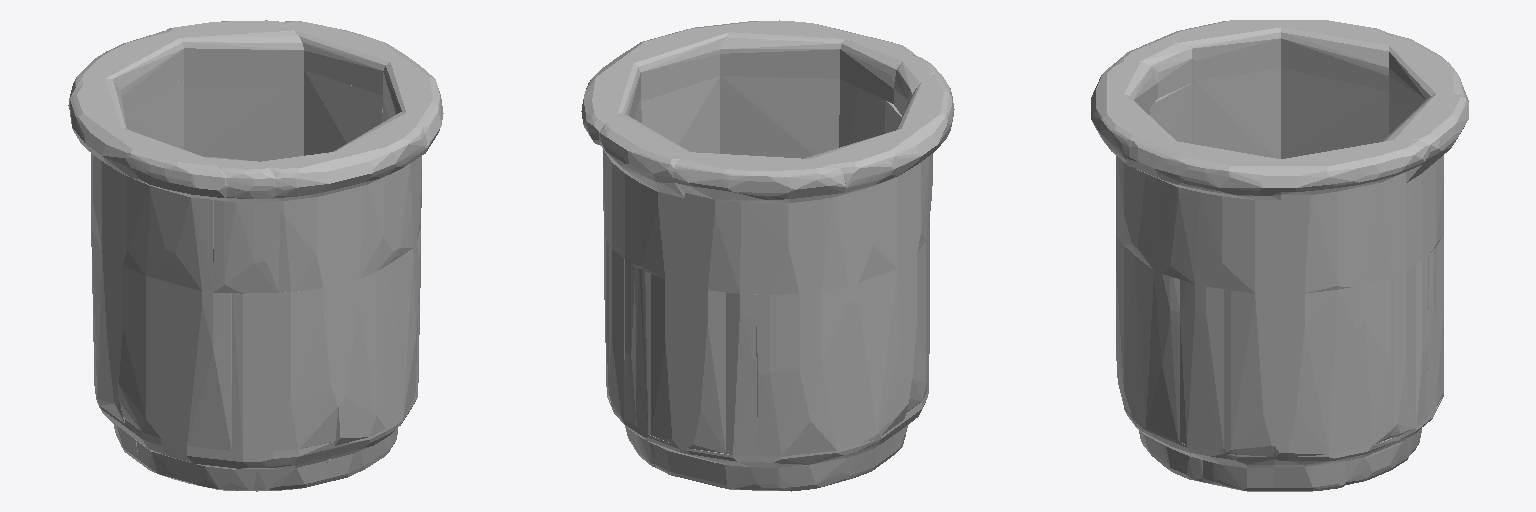
URDF robot description (root):
<robot name="root">
  <link name="body">
    <visual>
      <origin xyz="0 0 0" rpy="0 0 0"/>
      <geometry>
        <mesh filename="coacd_convex_piece_0.obj" scale="1.0000E+00 1.0000E+00 1.0000E+00"/>
      </geometry>
      <material name="">
        <color rgba="7.50E-01 7.50E-01 7.50E-01 1"/>
      </material>
    </visual>
    <collision>
      <origin xyz="0 0 0" rpy="0 0 0"/>
      <geometry>
        <mesh filename="coacd_convex_piece_0.obj" scale="1.0000E+00 1.0000E+00 1.0000E+00"/>
      </geometry>
    </collision>
    <visual>
      <origin xyz="0 0 0" rpy="0 0 0"/>
      <geometry>
        <mesh filename="coacd_convex_piece_1.obj" scale="1.0000E+00 1.0000E+00 1.0000E+00"/>
      </geometry>
      <material name="">
        <color rgba="7.50E-01 7.50E-01 7.50E-01 1"/>
      </material>
    </visual>
    <collision>
      <origin xyz="0 0 0" rpy="0 0 0"/>
      <geometry>
        <mesh filename="coacd_convex_piece_1.obj" scale="1.0000E+00 1.0000E+00 1.0000E+00"/>
      </geometry>
    </collision>
    <visual>
      <origin xyz="0 0 0" rpy="0 0 0"/>
      <geometry>
        <mesh filename="coacd_convex_piece_2.obj" scale="1.0000E+00 1.0000E+00 1.0000E+00"/>
      </geometry>
      <material name="">
        <color rgba="7.50E-01 7.50E-01 7.50E-01 1"/>
      </material>
    </visual>
    <collision>
      <origin xyz="0 0 0" rpy="0 0 0"/>
      <geometry>
        <mesh filename="coacd_convex_piece_2.obj" scale="1.0000E+00 1.0000E+00 1.0000E+00"/>
      </geometry>
    </collision>
    <visual>
      <origin xyz="0 0 0" rpy="0 0 0"/>
      <geometry>
        <mesh filename="coacd_convex_piece_3.obj" scale="1.0000E+00 1.0000E+00 1.0000E+00"/>
      </geometry>
      <material name="">
        <color rgba="7.50E-01 7.50E-01 7.50E-01 1"/>
      </material>
    </visual>
    <collision>
      <origin xyz="0 0 0" rpy="0 0 0"/>
      <geometry>
        <mesh filename="coacd_convex_piece_3.obj" scale="1.0000E+00 1.0000E+00 1.0000E+00"/>
      </geometry>
    </collision>
    <visual>
      <origin xyz="0 0 0" rpy="0 0 0"/>
      <geometry>
        <mesh filename="coacd_convex_piece_4.obj" scale="1.0000E+00 1.0000E+00 1.0000E+00"/>
      </geometry>
      <material name="">
        <color rgba="7.50E-01 7.50E-01 7.50E-01 1"/>
      </material>
    </visual>
    <collision>
      <origin xyz="0 0 0" rpy="0 0 0"/>
      <geometry>
        <mesh filename="coacd_convex_piece_4.obj" scale="1.0000E+00 1.0000E+00 1.0000E+00"/>
      </geometry>
    </collision>
    <visual>
      <origin xyz="0 0 0" rpy="0 0 0"/>
      <geometry>
        <mesh filename="coacd_convex_piece_5.obj" scale="1.0000E+00 1.0000E+00 1.0000E+00"/>
      </geometry>
      <material name="">
        <color rgba="7.50E-01 7.50E-01 7.50E-01 1"/>
      </material>
    </visual>
    <collision>
      <origin xyz="0 0 0" rpy="0 0 0"/>
      <geometry>
        <mesh filename="coacd_convex_piece_5.obj" scale="1.0000E+00 1.0000E+00 1.0000E+00"/>
      </geometry>
    </collision>
    <visual>
      <origin xyz="0 0 0" rpy="0 0 0"/>
      <geometry>
        <mesh filename="coacd_convex_piece_6.obj" scale="1.0000E+00 1.0000E+00 1.0000E+00"/>
      </geometry>
      <material name="">
        <color rgba="7.50E-01 7.50E-01 7.50E-01 1"/>
      </material>
    </visual>
    <collision>
      <origin xyz="0 0 0" rpy="0 0 0"/>
      <geometry>
        <mesh filename="coacd_convex_piece_6.obj" scale="1.0000E+00 1.0000E+00 1.0000E+00"/>
      </geometry>
    </collision>
    <visual>
      <origin xyz="0 0 0" rpy="0 0 0"/>
      <geometry>
        <mesh filename="coacd_convex_piece_7.obj" scale="1.0000E+00 1.0000E+00 1.0000E+00"/>
      </geometry>
      <material name="">
        <color rgba="7.50E-01 7.50E-01 7.50E-01 1"/>
      </material>
    </visual>
    <collision>
      <origin xyz="0 0 0" rpy="0 0 0"/>
      <geometry>
        <mesh filename="coacd_convex_piece_7.obj" scale="1.0000E+00 1.0000E+00 1.0000E+00"/>
      </geometry>
    </collision>
    <visual>
      <origin xyz="0 0 0" rpy="0 0 0"/>
      <geometry>
        <mesh filename="coacd_convex_piece_8.obj" scale="1.0000E+00 1.0000E+00 1.0000E+00"/>
      </geometry>
      <material name="">
        <color rgba="7.50E-01 7.50E-01 7.50E-01 1"/>
      </material>
    </visual>
    <collision>
      <origin xyz="0 0 0" rpy="0 0 0"/>
      <geometry>
        <mesh filename="coacd_convex_piece_8.obj" scale="1.0000E+00 1.0000E+00 1.0000E+00"/>
      </geometry>
    </collision>
    <visual>
      <origin xyz="0 0 0" rpy="0 0 0"/>
      <geometry>
        <mesh filename="coacd_convex_piece_9.obj" scale="1.0000E+00 1.0000E+00 1.0000E+00"/>
      </geometry>
      <material name="">
        <color rgba="7.50E-01 7.50E-01 7.50E-01 1"/>
      </material>
    </visual>
    <collision>
      <origin xyz="0 0 0" rpy="0 0 0"/>
      <geometry>
        <mesh filename="coacd_convex_piece_9.obj" scale="1.0000E+00 1.0000E+00 1.0000E+00"/>
      </geometry>
    </collision>
    <visual>
      <origin xyz="0 0 0" rpy="0 0 0"/>
      <geometry>
        <mesh filename="coacd_convex_piece_10.obj" scale="1.0000E+00 1.0000E+00 1.0000E+00"/>
      </geometry>
      <material name="">
        <color rgba="7.50E-01 7.50E-01 7.50E-01 1"/>
      </material>
    </visual>
    <collision>
      <origin xyz="0 0 0" rpy="0 0 0"/>
      <geometry>
        <mesh filename="coacd_convex_piece_10.obj" scale="1.0000E+00 1.0000E+00 1.0000E+00"/>
      </geometry>
    </collision>
    <visual>
      <origin xyz="0 0 0" rpy="0 0 0"/>
      <geometry>
        <mesh filename="coacd_convex_piece_11.obj" scale="1.0000E+00 1.0000E+00 1.0000E+00"/>
      </geometry>
      <material name="">
        <color rgba="7.50E-01 7.50E-01 7.50E-01 1"/>
      </material>
    </visual>
    <collision>
      <origin xyz="0 0 0" rpy="0 0 0"/>
      <geometry>
        <mesh filename="coacd_convex_piece_11.obj" scale="1.0000E+00 1.0000E+00 1.0000E+00"/>
      </geometry>
    </collision>
    <visual>
      <origin xyz="0 0 0" rpy="0 0 0"/>
      <geometry>
        <mesh filename="coacd_convex_piece_12.obj" scale="1.0000E+00 1.0000E+00 1.0000E+00"/>
      </geometry>
      <material name="">
        <color rgba="7.50E-01 7.50E-01 7.50E-01 1"/>
      </material>
    </visual>
    <collision>
      <origin xyz="0 0 0" rpy="0 0 0"/>
      <geometry>
        <mesh filename="coacd_convex_piece_12.obj" scale="1.0000E+00 1.0000E+00 1.0000E+00"/>
      </geometry>
    </collision>
    <visual>
      <origin xyz="0 0 0" rpy="0 0 0"/>
      <geometry>
        <mesh filename="coacd_convex_piece_13.obj" scale="1.0000E+00 1.0000E+00 1.0000E+00"/>
      </geometry>
      <material name="">
        <color rgba="7.50E-01 7.50E-01 7.50E-01 1"/>
      </material>
    </visual>
    <collision>
      <origin xyz="0 0 0" rpy="0 0 0"/>
      <geometry>
        <mesh filename="coacd_convex_piece_13.obj" scale="1.0000E+00 1.0000E+00 1.0000E+00"/>
      </geometry>
    </collision>
    <visual>
      <origin xyz="0 0 0" rpy="0 0 0"/>
      <geometry>
        <mesh filename="coacd_convex_piece_14.obj" scale="1.0000E+00 1.0000E+00 1.0000E+00"/>
      </geometry>
      <material name="">
        <color rgba="7.50E-01 7.50E-01 7.50E-01 1"/>
      </material>
    </visual>
    <collision>
      <origin xyz="0 0 0" rpy="0 0 0"/>
      <geometry>
        <mesh filename="coacd_convex_piece_14.obj" scale="1.0000E+00 1.0000E+00 1.0000E+00"/>
      </geometry>
    </collision>
    <visual>
      <origin xyz="0 0 0" rpy="0 0 0"/>
      <geometry>
        <mesh filename="coacd_convex_piece_15.obj" scale="1.0000E+00 1.0000E+00 1.0000E+00"/>
      </geometry>
      <material name="">
        <color rgba="7.50E-01 7.50E-01 7.50E-01 1"/>
      </material>
    </visual>
    <collision>
      <origin xyz="0 0 0" rpy="0 0 0"/>
      <geometry>
        <mesh filename="coacd_convex_piece_15.obj" scale="1.0000E+00 1.0000E+00 1.0000E+00"/>
      </geometry>
    </collision>
    <visual>
      <origin xyz="0 0 0" rpy="0 0 0"/>
      <geometry>
        <mesh filename="coacd_convex_piece_16.obj" scale="1.0000E+00 1.0000E+00 1.0000E+00"/>
      </geometry>
      <material name="">
        <color rgba="7.50E-01 7.50E-01 7.50E-01 1"/>
      </material>
    </visual>
    <collision>
      <origin xyz="0 0 0" rpy="0 0 0"/>
      <geometry>
        <mesh filename="coacd_convex_piece_16.obj" scale="1.0000E+00 1.0000E+00 1.0000E+00"/>
      </geometry>
    </collision>
    <visual>
      <origin xyz="0 0 0" rpy="0 0 0"/>
      <geometry>
        <mesh filename="coacd_convex_piece_17.obj" scale="1.0000E+00 1.0000E+00 1.0000E+00"/>
      </geometry>
      <material name="">
        <color rgba="7.50E-01 7.50E-01 7.50E-01 1"/>
      </material>
    </visual>
    <collision>
      <origin xyz="0 0 0" rpy="0 0 0"/>
      <geometry>
        <mesh filename="coacd_convex_piece_17.obj" scale="1.0000E+00 1.0000E+00 1.0000E+00"/>
      </geometry>
    </collision>
    <visual>
      <origin xyz="0 0 0" rpy="0 0 0"/>
      <geometry>
        <mesh filename="coacd_convex_piece_18.obj" scale="1.0000E+00 1.0000E+00 1.0000E+00"/>
      </geometry>
      <material name="">
        <color rgba="7.50E-01 7.50E-01 7.50E-01 1"/>
      </material>
    </visual>
    <collision>
      <origin xyz="0 0 0" rpy="0 0 0"/>
      <geometry>
        <mesh filename="coacd_convex_piece_18.obj" scale="1.0000E+00 1.0000E+00 1.0000E+00"/>
      </geometry>
    </collision>
    <visual>
      <origin xyz="0 0 0" rpy="0 0 0"/>
      <geometry>
        <mesh filename="coacd_convex_piece_19.obj" scale="1.0000E+00 1.0000E+00 1.0000E+00"/>
      </geometry>
      <material name="">
        <color rgba="7.50E-01 7.50E-01 7.50E-01 1"/>
      </material>
    </visual>
    <collision>
      <origin xyz="0 0 0" rpy="0 0 0"/>
      <geometry>
        <mesh filename="coacd_convex_piece_19.obj" scale="1.0000E+00 1.0000E+00 1.0000E+00"/>
      </geometry>
    </collision>
    <visual>
      <origin xyz="0 0 0" rpy="0 0 0"/>
      <geometry>
        <mesh filename="coacd_convex_piece_20.obj" scale="1.0000E+00 1.0000E+00 1.0000E+00"/>
      </geometry>
      <material name="">
        <color rgba="7.50E-01 7.50E-01 7.50E-01 1"/>
      </material>
    </visual>
    <collision>
      <origin xyz="0 0 0" rpy="0 0 0"/>
      <geometry>
        <mesh filename="coacd_convex_piece_20.obj" scale="1.0000E+00 1.0000E+00 1.0000E+00"/>
      </geometry>
    </collision>
    <visual>
      <origin xyz="0 0 0" rpy="0 0 0"/>
      <geometry>
        <mesh filename="coacd_convex_piece_21.obj" scale="1.0000E+00 1.0000E+00 1.0000E+00"/>
      </geometry>
      <material name="">
        <color rgba="7.50E-01 7.50E-01 7.50E-01 1"/>
      </material>
    </visual>
    <collision>
      <origin xyz="0 0 0" rpy="0 0 0"/>
      <geometry>
        <mesh filename="coacd_convex_piece_21.obj" scale="1.0000E+00 1.0000E+00 1.0000E+00"/>
      </geometry>
    </collision>
    <visual>
      <origin xyz="0 0 0" rpy="0 0 0"/>
      <geometry>
        <mesh filename="coacd_convex_piece_22.obj" scale="1.0000E+00 1.0000E+00 1.0000E+00"/>
      </geometry>
      <material name="">
        <color rgba="7.50E-01 7.50E-01 7.50E-01 1"/>
      </material>
    </visual>
    <collision>
      <origin xyz="0 0 0" rpy="0 0 0"/>
      <geometry>
        <mesh filename="coacd_convex_piece_22.obj" scale="1.0000E+00 1.0000E+00 1.0000E+00"/>
      </geometry>
    </collision>
    <visual>
      <origin xyz="0 0 0" rpy="0 0 0"/>
      <geometry>
        <mesh filename="coacd_convex_piece_23.obj" scale="1.0000E+00 1.0000E+00 1.0000E+00"/>
      </geometry>
      <material name="">
        <color rgba="7.50E-01 7.50E-01 7.50E-01 1"/>
      </material>
    </visual>
    <collision>
      <origin xyz="0 0 0" rpy="0 0 0"/>
      <geometry>
        <mesh filename="coacd_convex_piece_23.obj" scale="1.0000E+00 1.0000E+00 1.0000E+00"/>
      </geometry>
    </collision>
    <visual>
      <origin xyz="0 0 0" rpy="0 0 0"/>
      <geometry>
        <mesh filename="coacd_convex_piece_24.obj" scale="1.0000E+00 1.0000E+00 1.0000E+00"/>
      </geometry>
      <material name="">
        <color rgba="7.50E-01 7.50E-01 7.50E-01 1"/>
      </material>
    </visual>
    <collision>
      <origin xyz="0 0 0" rpy="0 0 0"/>
      <geometry>
        <mesh filename="coacd_convex_piece_24.obj" scale="1.0000E+00 1.0000E+00 1.0000E+00"/>
      </geometry>
    </collision>
    <visual>
      <origin xyz="0 0 0" rpy="0 0 0"/>
      <geometry>
        <mesh filename="coacd_convex_piece_25.obj" scale="1.0000E+00 1.0000E+00 1.0000E+00"/>
      </geometry>
      <material name="">
        <color rgba="7.50E-01 7.50E-01 7.50E-01 1"/>
      </material>
    </visual>
    <collision>
      <origin xyz="0 0 0" rpy="0 0 0"/>
      <geometry>
        <mesh filename="coacd_convex_piece_25.obj" scale="1.0000E+00 1.0000E+00 1.0000E+00"/>
      </geometry>
    </collision>
    <visual>
      <origin xyz="0 0 0" rpy="0 0 0"/>
      <geometry>
        <mesh filename="coacd_convex_piece_26.obj" scale="1.0000E+00 1.0000E+00 1.0000E+00"/>
      </geometry>
      <material name="">
        <color rgba="7.50E-01 7.50E-01 7.50E-01 1"/>
      </material>
    </visual>
    <collision>
      <origin xyz="0 0 0" rpy="0 0 0"/>
      <geometry>
        <mesh filename="coacd_convex_piece_26.obj" scale="1.0000E+00 1.0000E+00 1.0000E+00"/>
      </geometry>
    </collision>
    <visual>
      <origin xyz="0 0 0" rpy="0 0 0"/>
      <geometry>
        <mesh filename="coacd_convex_piece_27.obj" scale="1.0000E+00 1.0000E+00 1.0000E+00"/>
      </geometry>
      <material name="">
        <color rgba="7.50E-01 7.50E-01 7.50E-01 1"/>
      </material>
    </visual>
    <collision>
      <origin xyz="0 0 0" rpy="0 0 0"/>
      <geometry>
        <mesh filename="coacd_convex_piece_27.obj" scale="1.0000E+00 1.0000E+00 1.0000E+00"/>
      </geometry>
    </collision>
    <visual>
      <origin xyz="0 0 0" rpy="0 0 0"/>
      <geometry>
        <mesh filename="coacd_convex_piece_28.obj" scale="1.0000E+00 1.0000E+00 1.0000E+00"/>
      </geometry>
      <material name="">
        <color rgba="7.50E-01 7.50E-01 7.50E-01 1"/>
      </material>
    </visual>
    <collision>
      <origin xyz="0 0 0" rpy="0 0 0"/>
      <geometry>
        <mesh filename="coacd_convex_piece_28.obj" scale="1.0000E+00 1.0000E+00 1.0000E+00"/>
      </geometry>
    </collision>
    <visual>
      <origin xyz="0 0 0" rpy="0 0 0"/>
      <geometry>
        <mesh filename="coacd_convex_piece_29.obj" scale="1.0000E+00 1.0000E+00 1.0000E+00"/>
      </geometry>
      <material name="">
        <color rgba="7.50E-01 7.50E-01 7.50E-01 1"/>
      </material>
    </visual>
    <collision>
      <origin xyz="0 0 0" rpy="0 0 0"/>
      <geometry>
        <mesh filename="coacd_convex_piece_29.obj" scale="1.0000E+00 1.0000E+00 1.0000E+00"/>
      </geometry>
    </collision>
    <visual>
      <origin xyz="0 0 0" rpy="0 0 0"/>
      <geometry>
        <mesh filename="coacd_convex_piece_30.obj" scale="1.0000E+00 1.0000E+00 1.0000E+00"/>
      </geometry>
      <material name="">
        <color rgba="7.50E-01 7.50E-01 7.50E-01 1"/>
      </material>
    </visual>
    <collision>
      <origin xyz="0 0 0" rpy="0 0 0"/>
      <geometry>
        <mesh filename="coacd_convex_piece_30.obj" scale="1.0000E+00 1.0000E+00 1.0000E+00"/>
      </geometry>
    </collision>
    <visual>
      <origin xyz="0 0 0" rpy="0 0 0"/>
      <geometry>
        <mesh filename="coacd_convex_piece_31.obj" scale="1.0000E+00 1.0000E+00 1.0000E+00"/>
      </geometry>
      <material name="">
        <color rgba="7.50E-01 7.50E-01 7.50E-01 1"/>
      </material>
    </visual>
    <collision>
      <origin xyz="0 0 0" rpy="0 0 0"/>
      <geometry>
        <mesh filename="coacd_convex_piece_31.obj" scale="1.0000E+00 1.0000E+00 1.0000E+00"/>
      </geometry>
    </collision>
    <visual>
      <origin xyz="0 0 0" rpy="0 0 0"/>
      <geometry>
        <mesh filename="coacd_convex_piece_32.obj" scale="1.0000E+00 1.0000E+00 1.0000E+00"/>
      </geometry>
      <material name="">
        <color rgba="7.50E-01 7.50E-01 7.50E-01 1"/>
      </material>
    </visual>
    <collision>
      <origin xyz="0 0 0" rpy="0 0 0"/>
      <geometry>
        <mesh filename="coacd_convex_piece_32.obj" scale="1.0000E+00 1.0000E+00 1.0000E+00"/>
      </geometry>
    </collision>
    <visual>
      <origin xyz="0 0 0" rpy="0 0 0"/>
      <geometry>
        <mesh filename="coacd_convex_piece_33.obj" scale="1.0000E+00 1.0000E+00 1.0000E+00"/>
      </geometry>
      <material name="">
        <color rgba="7.50E-01 7.50E-01 7.50E-01 1"/>
      </material>
    </visual>
    <collision>
      <origin xyz="0 0 0" rpy="0 0 0"/>
      <geometry>
        <mesh filename="coacd_convex_piece_33.obj" scale="1.0000E+00 1.0000E+00 1.0000E+00"/>
      </geometry>
    </collision>
    <visual>
      <origin xyz="0 0 0" rpy="0 0 0"/>
      <geometry>
        <mesh filename="coacd_convex_piece_34.obj" scale="1.0000E+00 1.0000E+00 1.0000E+00"/>
      </geometry>
      <material name="">
        <color rgba="7.50E-01 7.50E-01 7.50E-01 1"/>
      </material>
    </visual>
    <collision>
      <origin xyz="0 0 0" rpy="0 0 0"/>
      <geometry>
        <mesh filename="coacd_convex_piece_34.obj" scale="1.0000E+00 1.0000E+00 1.0000E+00"/>
      </geometry>
    </collision>
    <visual>
      <origin xyz="0 0 0" rpy="0 0 0"/>
      <geometry>
        <mesh filename="coacd_convex_piece_35.obj" scale="1.0000E+00 1.0000E+00 1.0000E+00"/>
      </geometry>
      <material name="">
        <color rgba="7.50E-01 7.50E-01 7.50E-01 1"/>
      </material>
    </visual>
    <collision>
      <origin xyz="0 0 0" rpy="0 0 0"/>
      <geometry>
        <mesh filename="coacd_convex_piece_35.obj" scale="1.0000E+00 1.0000E+00 1.0000E+00"/>
      </geometry>
    </collision>
    <visual>
      <origin xyz="0 0 0" rpy="0 0 0"/>
      <geometry>
        <mesh filename="coacd_convex_piece_36.obj" scale="1.0000E+00 1.0000E+00 1.0000E+00"/>
      </geometry>
      <material name="">
        <color rgba="7.50E-01 7.50E-01 7.50E-01 1"/>
      </material>
    </visual>
    <collision>
      <origin xyz="0 0 0" rpy="0 0 0"/>
      <geometry>
        <mesh filename="coacd_convex_piece_36.obj" scale="1.0000E+00 1.0000E+00 1.0000E+00"/>
      </geometry>
    </collision>
    <visual>
      <origin xyz="0 0 0" rpy="0 0 0"/>
      <geometry>
        <mesh filename="coacd_convex_piece_37.obj" scale="1.0000E+00 1.0000E+00 1.0000E+00"/>
      </geometry>
      <material name="">
        <color rgba="7.50E-01 7.50E-01 7.50E-01 1"/>
      </material>
    </visual>
    <collision>
      <origin xyz="0 0 0" rpy="0 0 0"/>
      <geometry>
        <mesh filename="coacd_convex_piece_37.obj" scale="1.0000E+00 1.0000E+00 1.0000E+00"/>
      </geometry>
    </collision>
    <visual>
      <origin xyz="0 0 0" rpy="0 0 0"/>
      <geometry>
        <mesh filename="coacd_convex_piece_38.obj" scale="1.0000E+00 1.0000E+00 1.0000E+00"/>
      </geometry>
      <material name="">
        <color rgba="7.50E-01 7.50E-01 7.50E-01 1"/>
      </material>
    </visual>
    <collision>
      <origin xyz="0 0 0" rpy="0 0 0"/>
      <geometry>
        <mesh filename="coacd_convex_piece_38.obj" scale="1.0000E+00 1.0000E+00 1.0000E+00"/>
      </geometry>
    </collision>
    <visual>
      <origin xyz="0 0 0" rpy="0 0 0"/>
      <geometry>
        <mesh filename="coacd_convex_piece_39.obj" scale="1.0000E+00 1.0000E+00 1.0000E+00"/>
      </geometry>
      <material name="">
        <color rgba="7.50E-01 7.50E-01 7.50E-01 1"/>
      </material>
    </visual>
    <collision>
      <origin xyz="0 0 0" rpy="0 0 0"/>
      <geometry>
        <mesh filename="coacd_convex_piece_39.obj" scale="1.0000E+00 1.0000E+00 1.0000E+00"/>
      </geometry>
    </collision>
    <visual>
      <origin xyz="0 0 0" rpy="0 0 0"/>
      <geometry>
        <mesh filename="coacd_convex_piece_40.obj" scale="1.0000E+00 1.0000E+00 1.0000E+00"/>
      </geometry>
      <material name="">
        <color rgba="7.50E-01 7.50E-01 7.50E-01 1"/>
      </material>
    </visual>
    <collision>
      <origin xyz="0 0 0" rpy="0 0 0"/>
      <geometry>
        <mesh filename="coacd_convex_piece_40.obj" scale="1.0000E+00 1.0000E+00 1.0000E+00"/>
      </geometry>
    </collision>
    <visual>
      <origin xyz="0 0 0" rpy="0 0 0"/>
      <geometry>
        <mesh filename="coacd_convex_piece_41.obj" scale="1.0000E+00 1.0000E+00 1.0000E+00"/>
      </geometry>
      <material name="">
        <color rgba="7.50E-01 7.50E-01 7.50E-01 1"/>
      </material>
    </visual>
    <collision>
      <origin xyz="0 0 0" rpy="0 0 0"/>
      <geometry>
        <mesh filename="coacd_convex_piece_41.obj" scale="1.0000E+00 1.0000E+00 1.0000E+00"/>
      </geometry>
    </collision>
    <visual>
      <origin xyz="0 0 0" rpy="0 0 0"/>
      <geometry>
        <mesh filename="coacd_convex_piece_42.obj" scale="1.0000E+00 1.0000E+00 1.0000E+00"/>
      </geometry>
      <material name="">
        <color rgba="7.50E-01 7.50E-01 7.50E-01 1"/>
      </material>
    </visual>
    <collision>
      <origin xyz="0 0 0" rpy="0 0 0"/>
      <geometry>
        <mesh filename="coacd_convex_piece_42.obj" scale="1.0000E+00 1.0000E+00 1.0000E+00"/>
      </geometry>
    </collision>
    <visual>
      <origin xyz="0 0 0" rpy="0 0 0"/>
      <geometry>
        <mesh filename="coacd_convex_piece_43.obj" scale="1.0000E+00 1.0000E+00 1.0000E+00"/>
      </geometry>
      <material name="">
        <color rgba="7.50E-01 7.50E-01 7.50E-01 1"/>
      </material>
    </visual>
    <collision>
      <origin xyz="0 0 0" rpy="0 0 0"/>
      <geometry>
        <mesh filename="coacd_convex_piece_43.obj" scale="1.0000E+00 1.0000E+00 1.0000E+00"/>
      </geometry>
    </collision>
    <visual>
      <origin xyz="0 0 0" rpy="0 0 0"/>
      <geometry>
        <mesh filename="coacd_convex_piece_44.obj" scale="1.0000E+00 1.0000E+00 1.0000E+00"/>
      </geometry>
      <material name="">
        <color rgba="7.50E-01 7.50E-01 7.50E-01 1"/>
      </material>
    </visual>
    <collision>
      <origin xyz="0 0 0" rpy="0 0 0"/>
      <geometry>
        <mesh filename="coacd_convex_piece_44.obj" scale="1.0000E+00 1.0000E+00 1.0000E+00"/>
      </geometry>
    </collision>
  </link>
  <link name="base">
        <visual>
      <origin xyz="0 0 0" rpy="0 0 0"/>
      <geometry>
        <mesh filename="coacd_convex_piece_0.obj" scale="1.0000E-05 1.0000E-05 1.0000E-05"/>
      </geometry>
      <material name="">
        <color rgba="7.50E-01 7.50E-01 7.50E-01 1"/>
      </material>
    </visual>
    <collision>
      <origin xyz="0 0 0" rpy="0 0 0"/>
      <geometry>
        <mesh filename="coacd_convex_piece_0.obj" scale="1.0000E-05 1.0000E-05 1.0000E-05"/>
      </geometry>
    </collision>
  </link>
<!--  <link name="base1"></link>-->
<!--  <joint name="joint1" type="fixed">-->
<!--    <origin xyz="0 0 0" rpy="0 0 0"/>-->
<!--    <parent link="base"/>-->
<!--    <child link="body"/>-->
<!--  </joint>-->
  <joint name="joint_use" type="revolute">
    <origin xyz="0 0 0" rpy="0 0 0"/>
    <parent link="body"/>
    <child link="base"/>
    <axis xyz="0 0 1"/>
    <limit lower="0.00" upper="1"/>
  </joint>
</robot>

--- What the picture shows (computed from the rendered views, not written in the file) ---
The picture shows the robot from 3 angles, left to right: view 1: azimuth 30°, elevation 25°; view 2: azimuth 150°, elevation 25°; view 3: azimuth 270°, elevation 25°; orthographic projection.
Robot: root — 2 links, 1 joints (1 revolute); root link body; default pose: every joint at zero.
Visible links, largest first — view 1: body; view 2: body; view 3: body.
Boxes of the visible links, x1,y1,x2,y2 form: body: (68,20,443,491); body: (581,20,954,491); body: (1091,20,1468,491).
Size in the robot's own frame: 1.43 by 1.43 by 1.43 metres.
46 mesh visuals loaded from 45 distinct referenced files (45 OBJ).